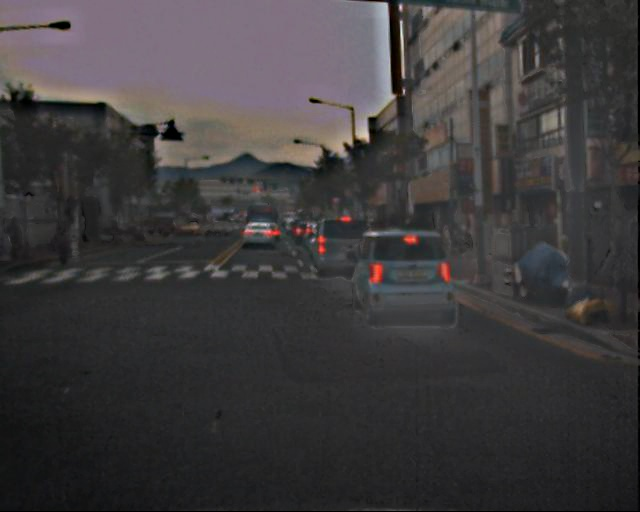person: (6, 211, 40, 264), (54, 214, 84, 263)
